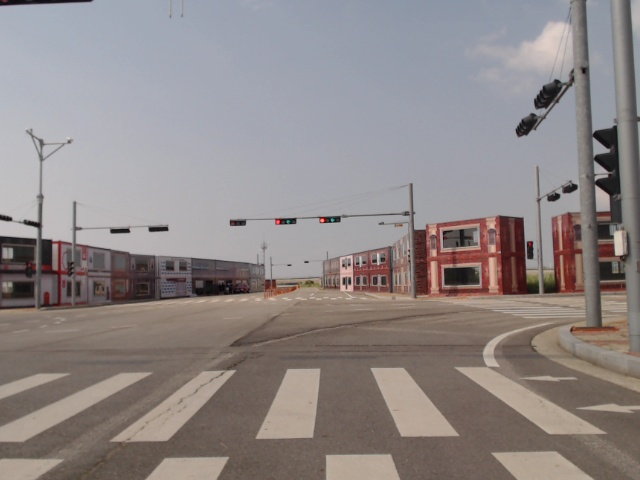left_green_4: (319, 217, 341, 223), (275, 219, 296, 225)
